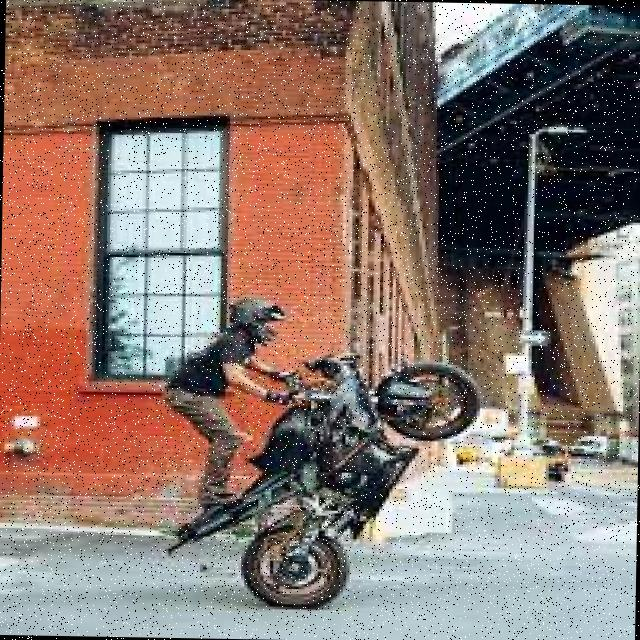Wheeling: (167, 286, 484, 626)
